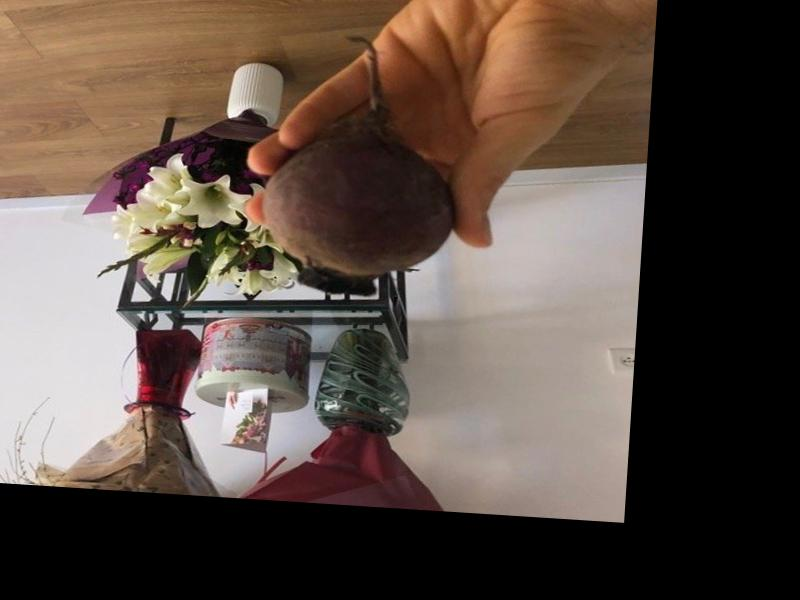Beet: (256, 32, 464, 301)
